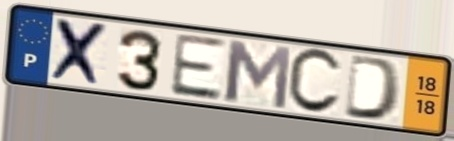3: (116, 27, 165, 93)
C: (284, 47, 345, 117)
D: (341, 52, 405, 124)
E: (166, 30, 227, 103)
M: (223, 36, 294, 112)
X: (47, 15, 114, 90)
